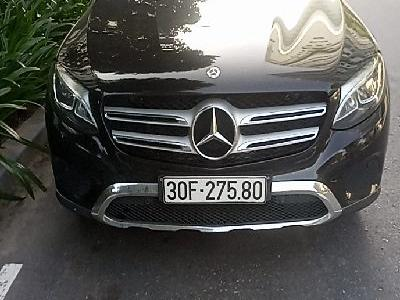number: (162, 177, 266, 203)
